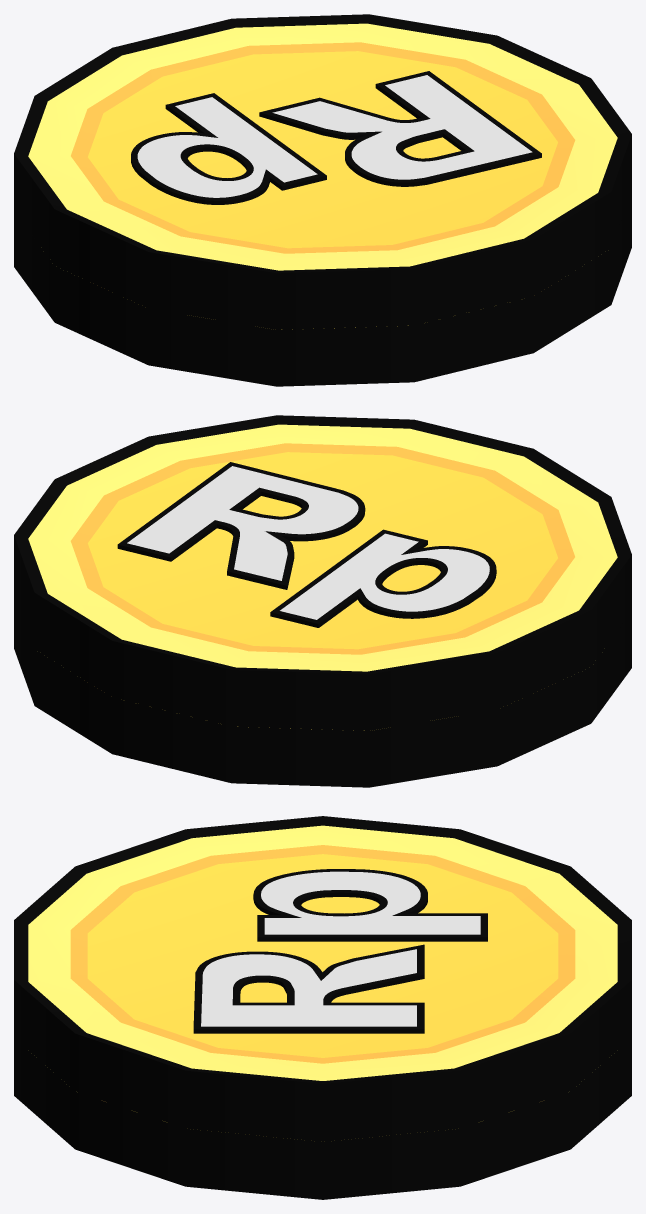
The model's file is Koin(1).fbx.
3 renders of one model, top to bottom at view 1: azimuth 30°, elevation 25°; view 2: azimuth 150°, elevation 25°; view 3: azimuth 270°, elevation 25°, orthographic. The views are drawn at different scales.
Visible parts, largest first — view 1: Coin; view 2: Coin; view 3: Coin.
Boxes of the visible parts, left/top/right/bottom form: Coin: left=14, top=14, right=631, bottom=386; Coin: left=14, top=415, right=631, bottom=787; Coin: left=14, top=816, right=631, bottom=1199.
Size of the model in its own units: 100 by 20.2 by 97.49.
